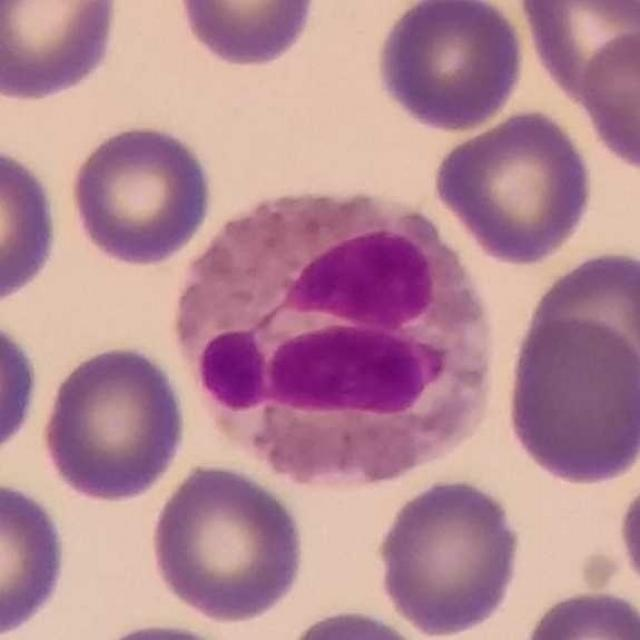Eosinophil: (159, 188, 496, 491)
Platelets: (576, 550, 631, 594)
RBC: (430, 106, 598, 267), (147, 459, 308, 626), (371, 474, 526, 639), (36, 341, 190, 505), (501, 312, 640, 488), (66, 119, 217, 269), (372, 0, 528, 135), (516, 246, 640, 414), (515, 0, 639, 106), (0, 0, 125, 105), (0, 475, 71, 640), (0, 139, 63, 310), (171, 0, 322, 71), (577, 25, 640, 175), (515, 585, 640, 640), (0, 311, 42, 467), (276, 604, 436, 640), (79, 616, 251, 640), (615, 461, 640, 605)
